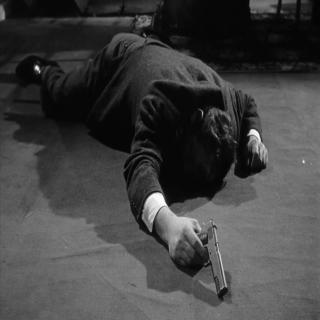gun: (174, 213, 226, 303)
